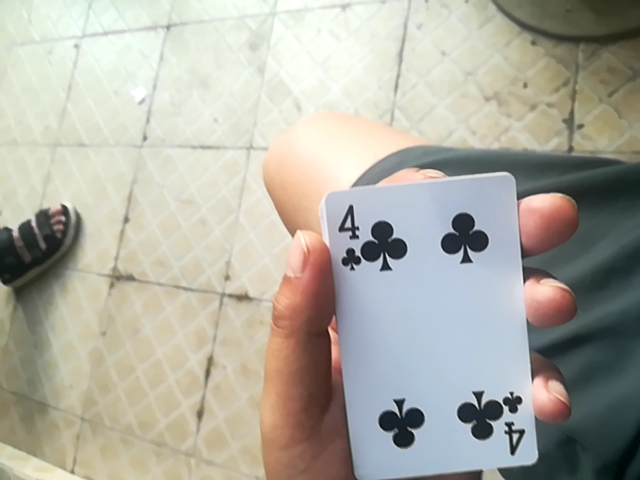mh 4: (324, 164, 547, 480)
